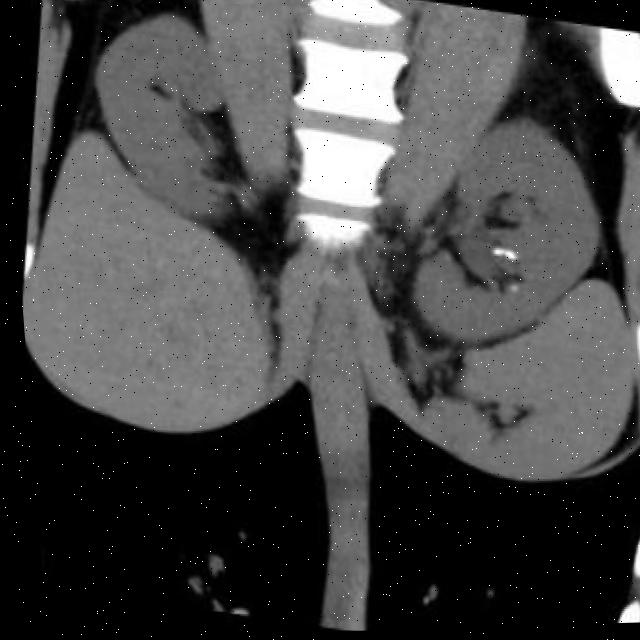Tas_Var: (497, 249, 514, 270), (482, 246, 499, 266), (501, 286, 513, 299)
